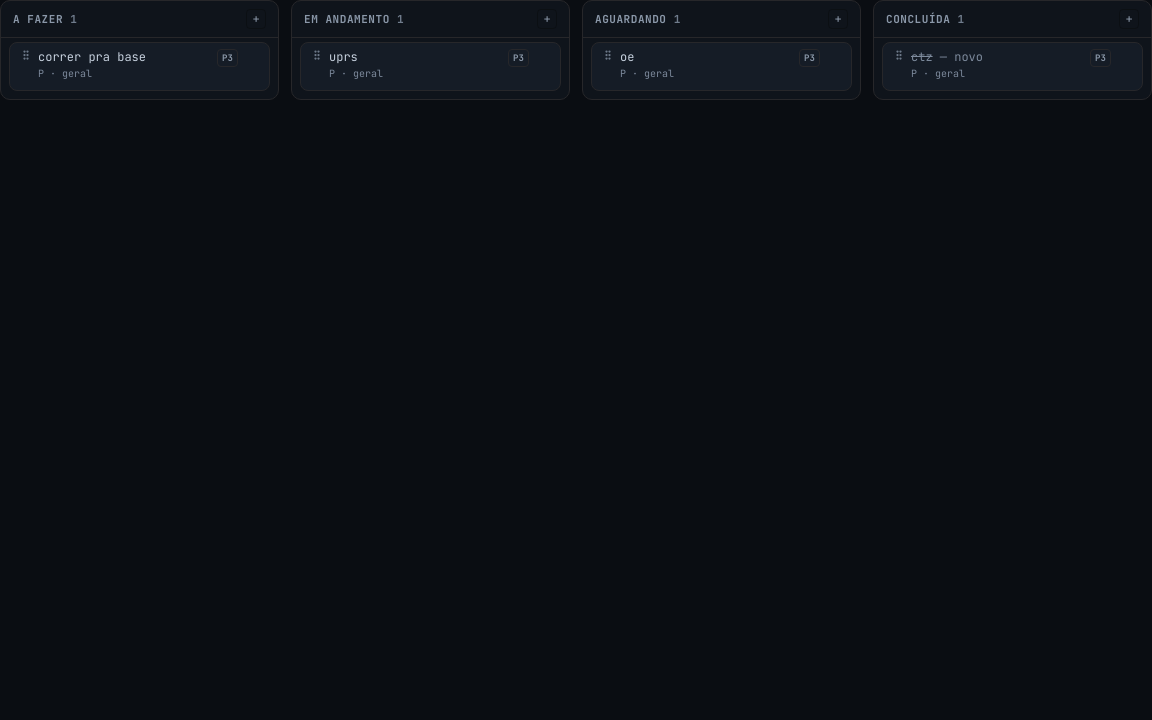
Kanban › clique no card abre o modal mesmo após mover o mouse (sem guard 6px)
Click the button with aria-label "editar tarefa correr pra base": (140, 67) [9,42,270,91]
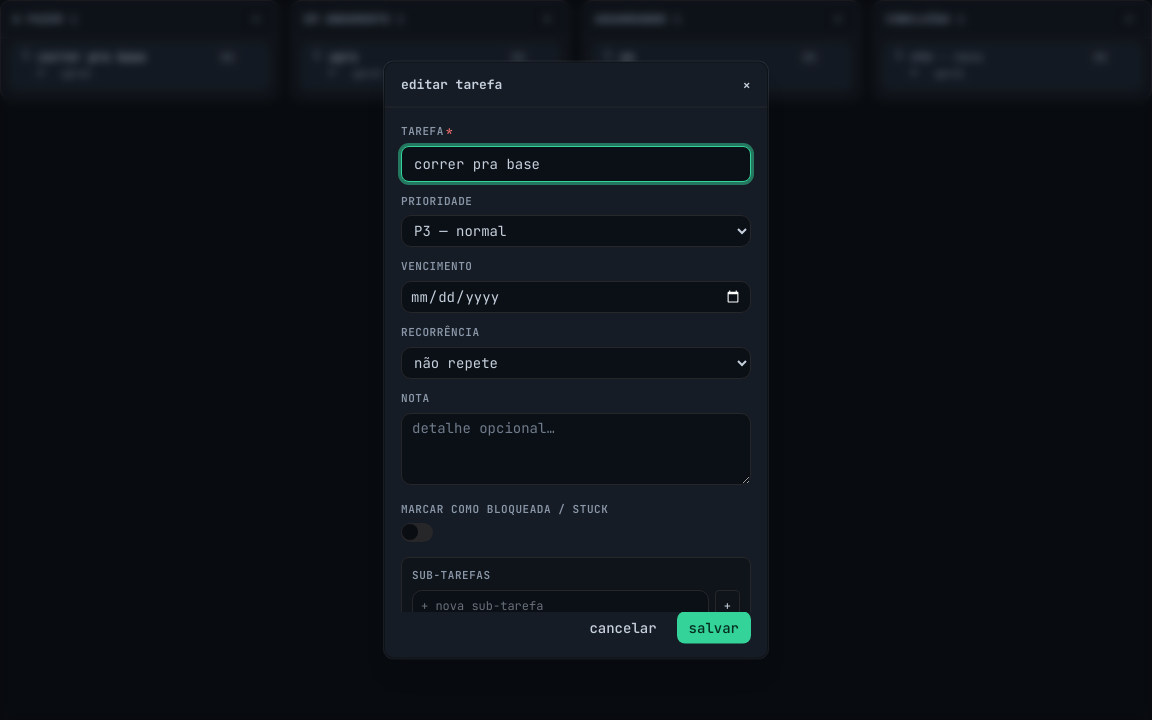
Expected: the heading "editar tarefa" is shown, [401,75,502,94]
